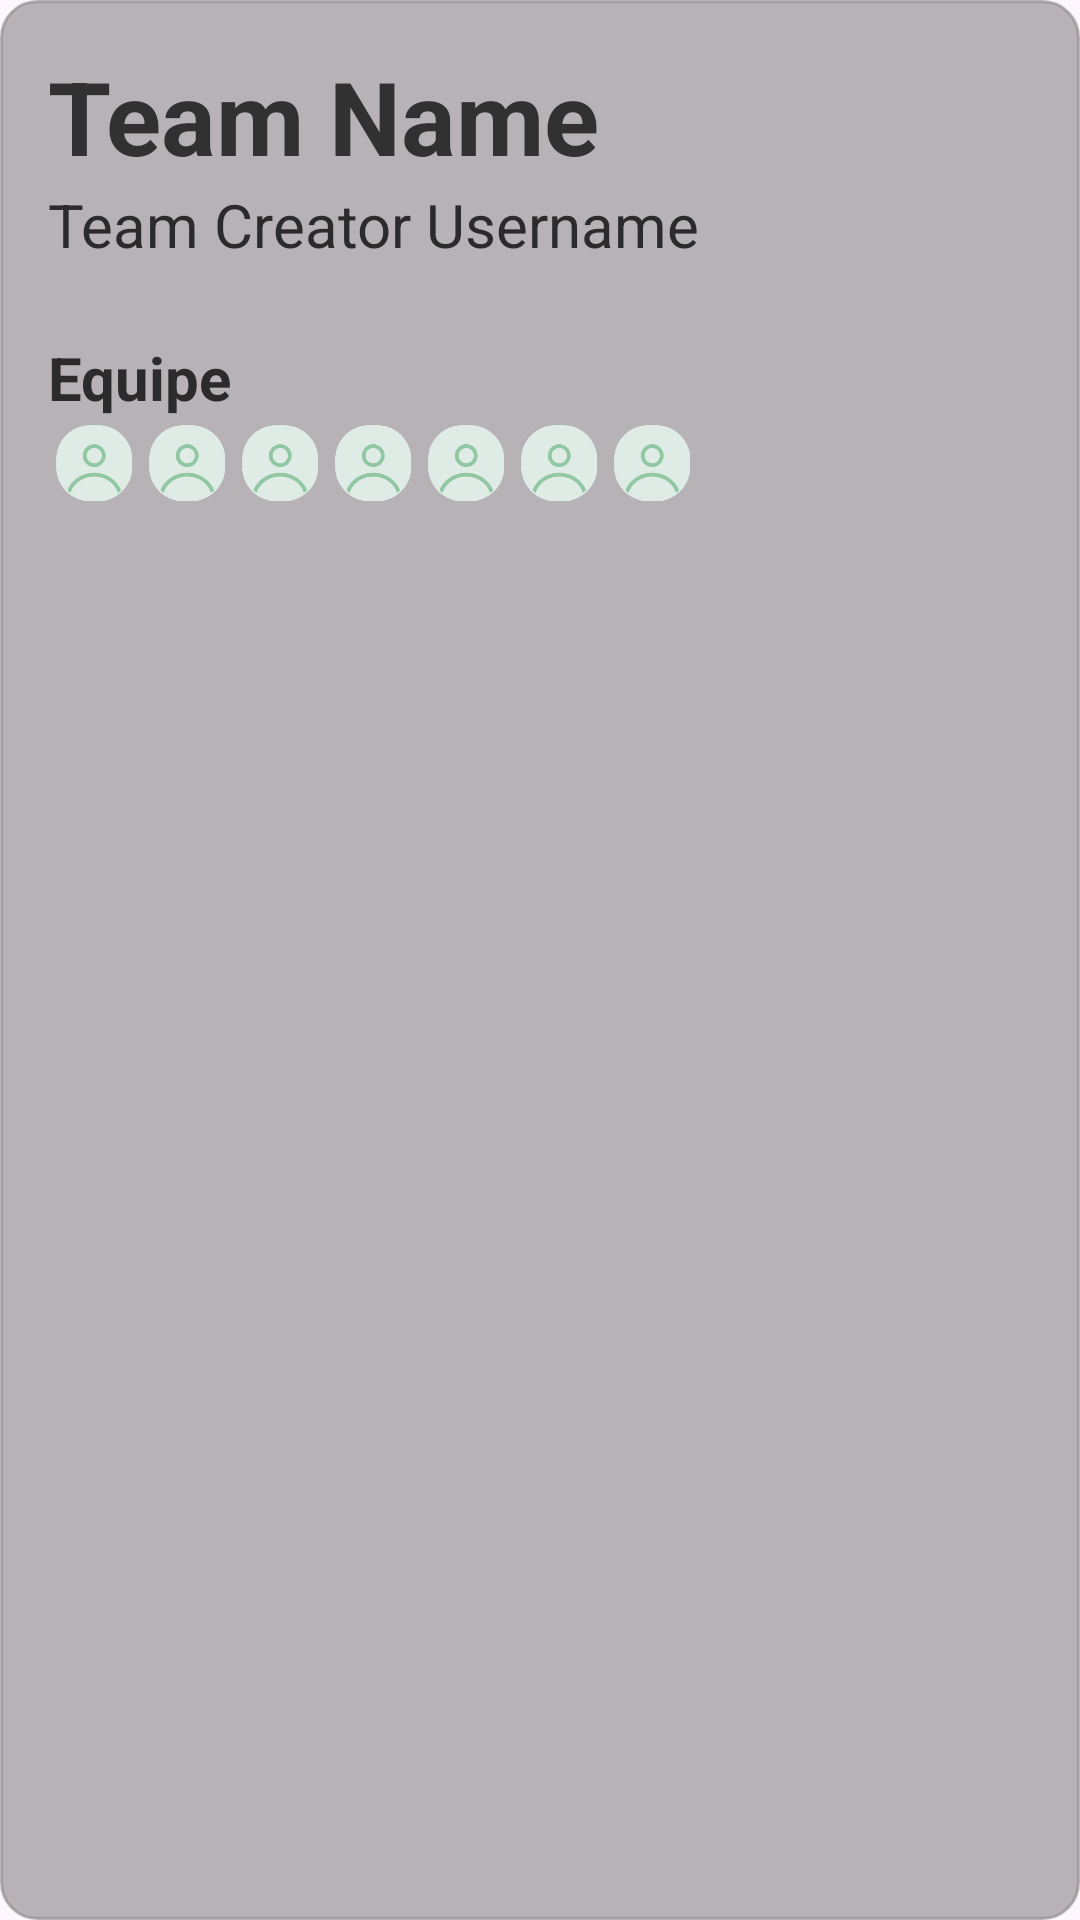

Screen size 1080 × 1920. Icon name, then its center in pixels as (x,y):
usertype: (94,463), (187,463), (280,463), (373,463), (466,463), (559,463), (652,463)
